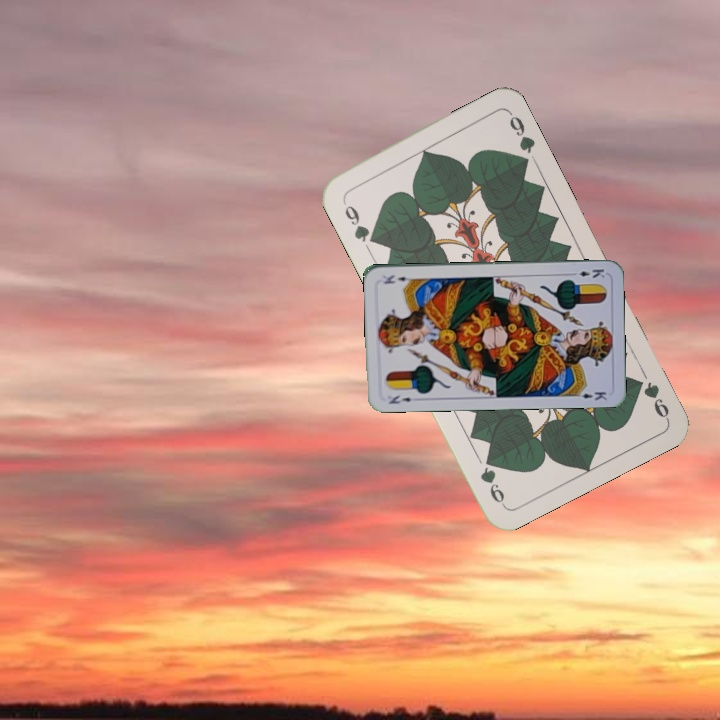EK: (567, 265, 607, 280), (385, 391, 421, 406)
G9: (338, 195, 379, 246), (629, 374, 672, 422)
